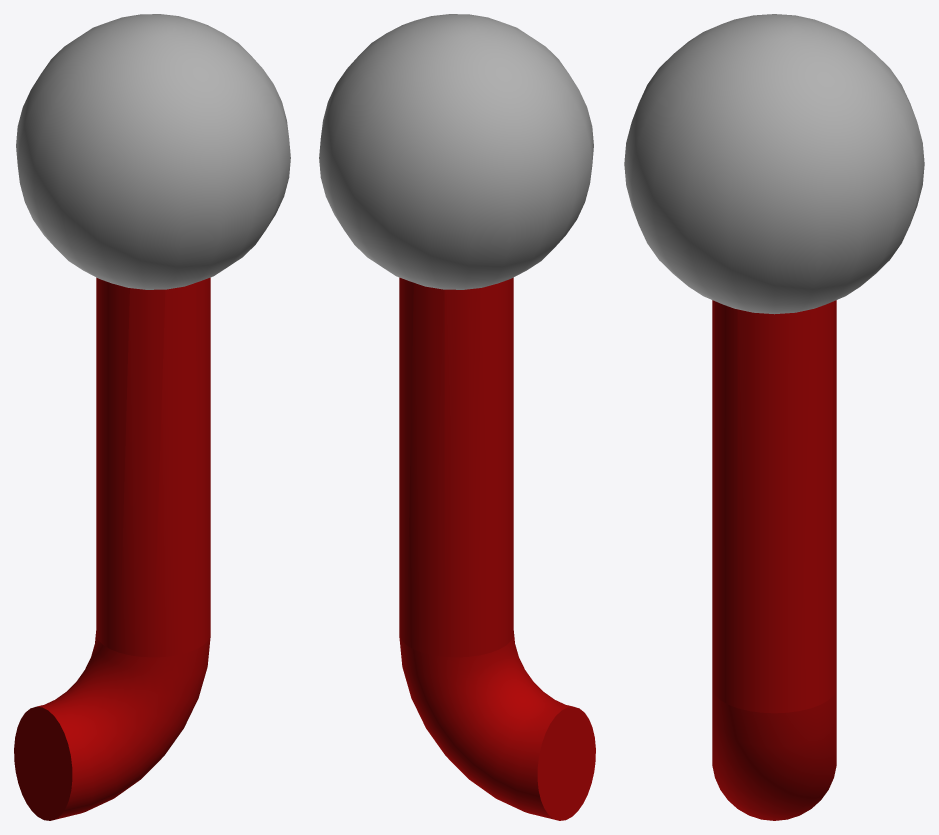
The model's file is palancaConAnimacion.fbx.
3 renders of one model, left to right at view 1: azimuth 30°, elevation 25°; view 2: azimuth 150°, elevation 25°; view 3: azimuth 270°, elevation 25°, orthographic. The views are drawn at different scales.
Visible parts, largest first — view 1: polySurface64; view 2: polySurface64; view 3: polySurface64.
Part boxes in pixels (bbox=[...]): polySurface64: bbox=[14, 14, 290, 820]; polySurface64: bbox=[319, 14, 595, 820]; polySurface64: bbox=[624, 14, 924, 820].
Size of the model in its own units: 1.2 by 3.65 by 1.2.
